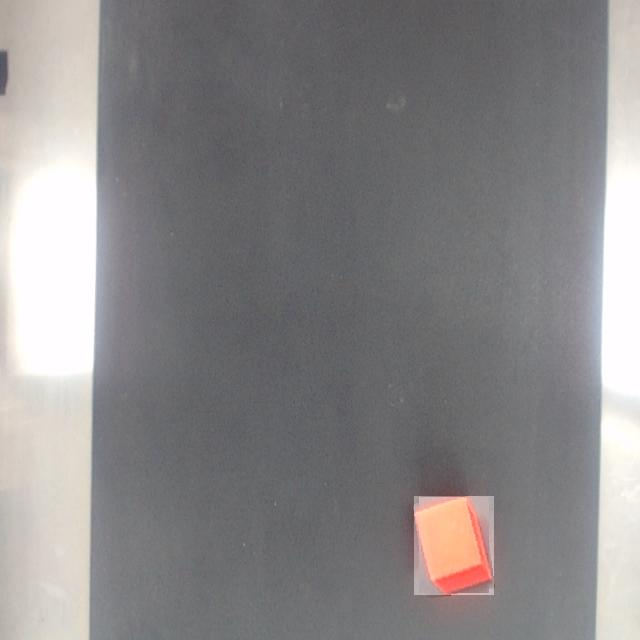Rojo: (415, 497, 494, 595)
